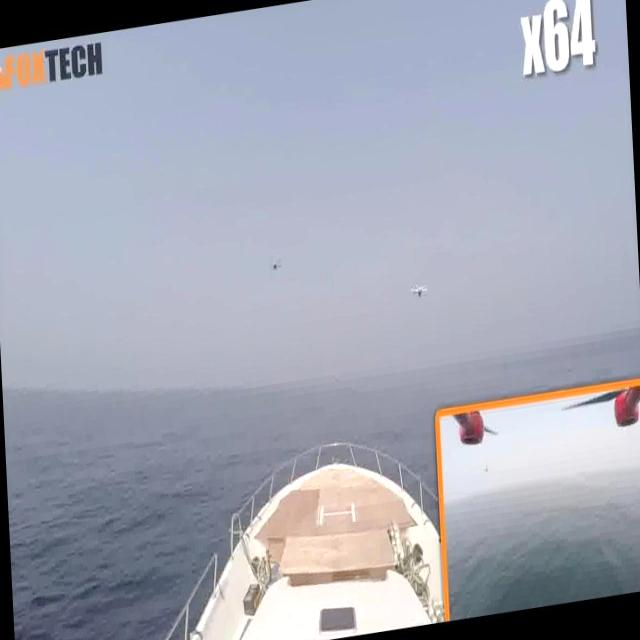drone: (409, 278, 432, 304), (268, 259, 282, 274)
